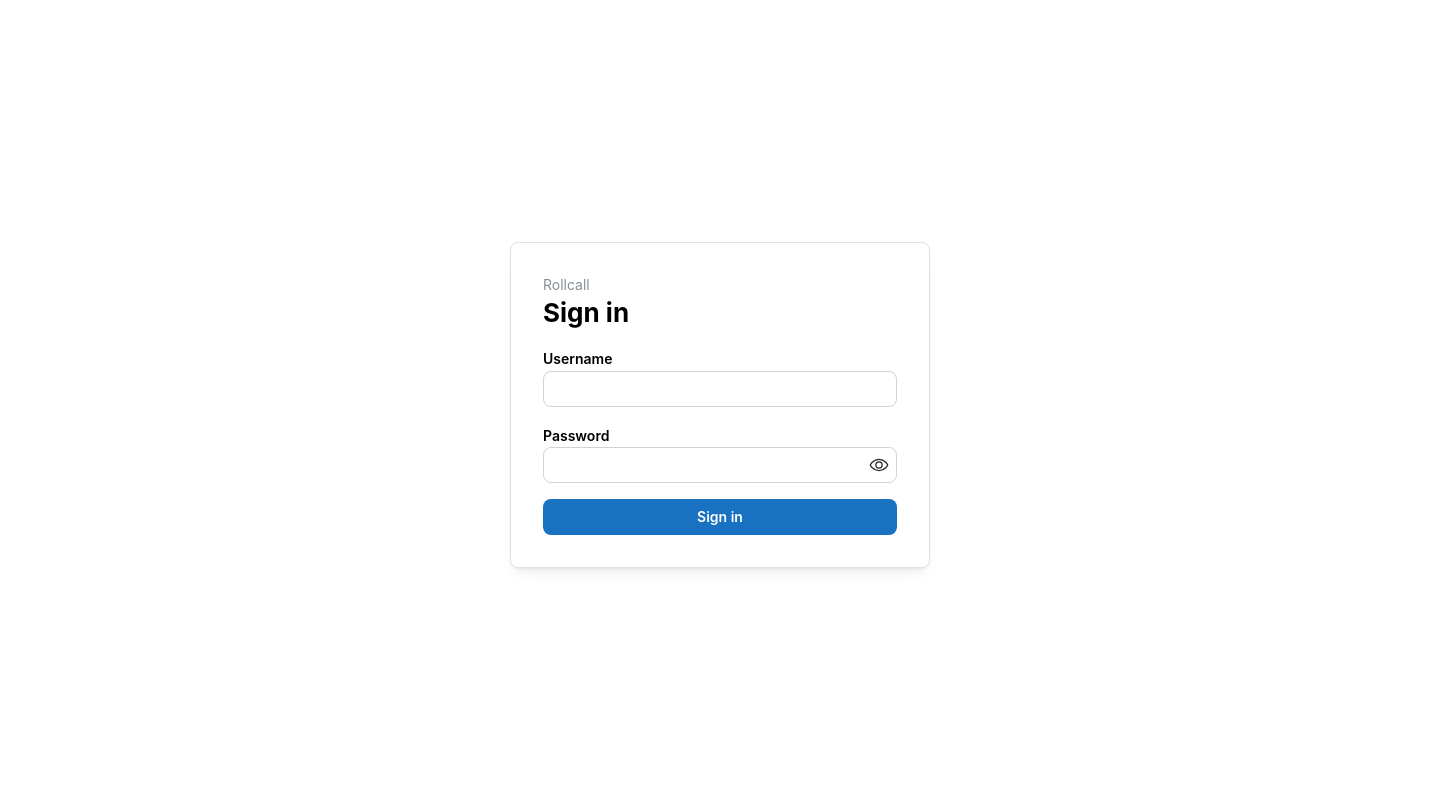
signing in › goes back to the page that sent you here, query and all
The image size is (1440, 810).
Expected: the heading "Sign in" is shown, [543,297,629,328]
In the field labelled "Username": (720, 389) [543,371,897,407], type "admin"
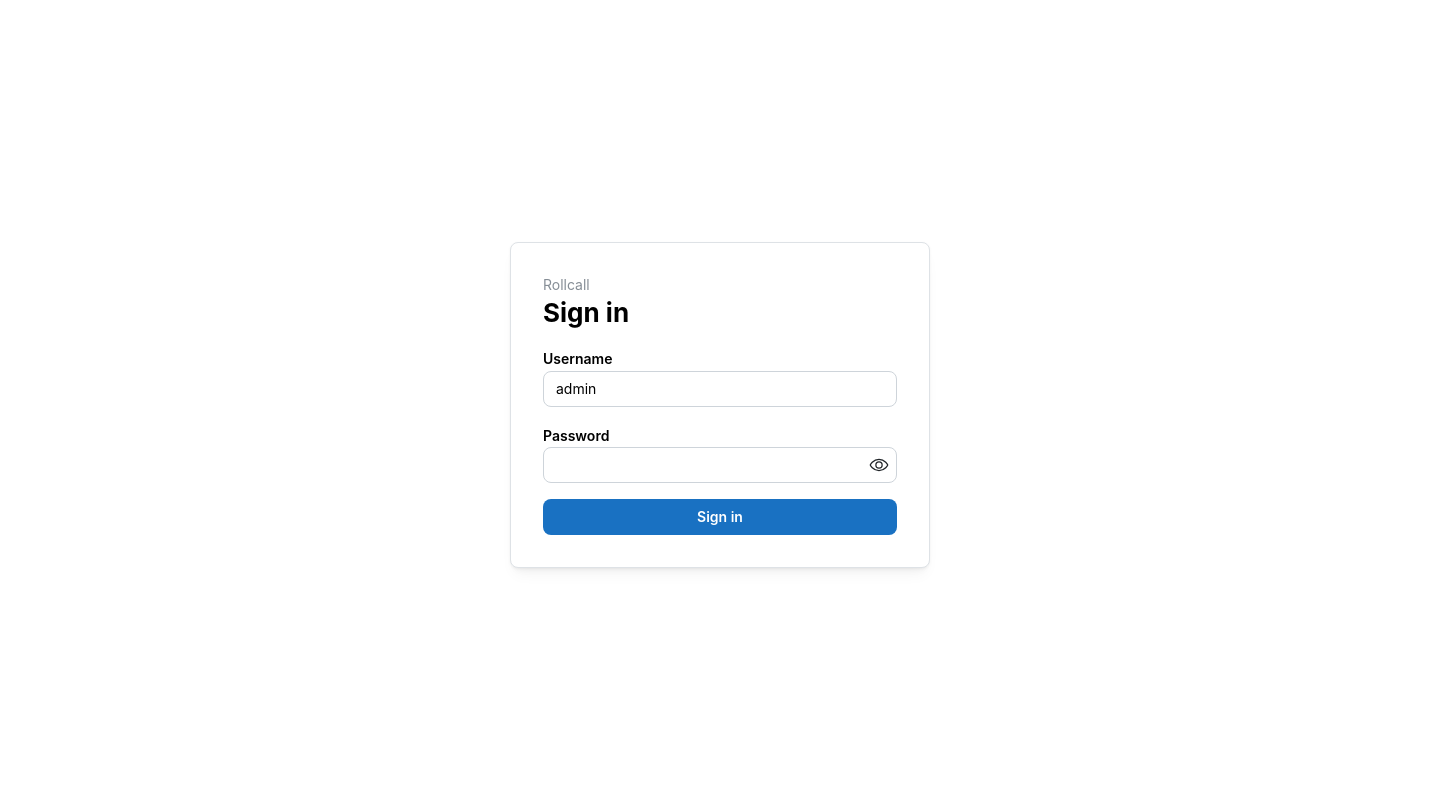
In the password field labelled "Password": (720, 466) [544,448,896,482], type "correct horse battery"
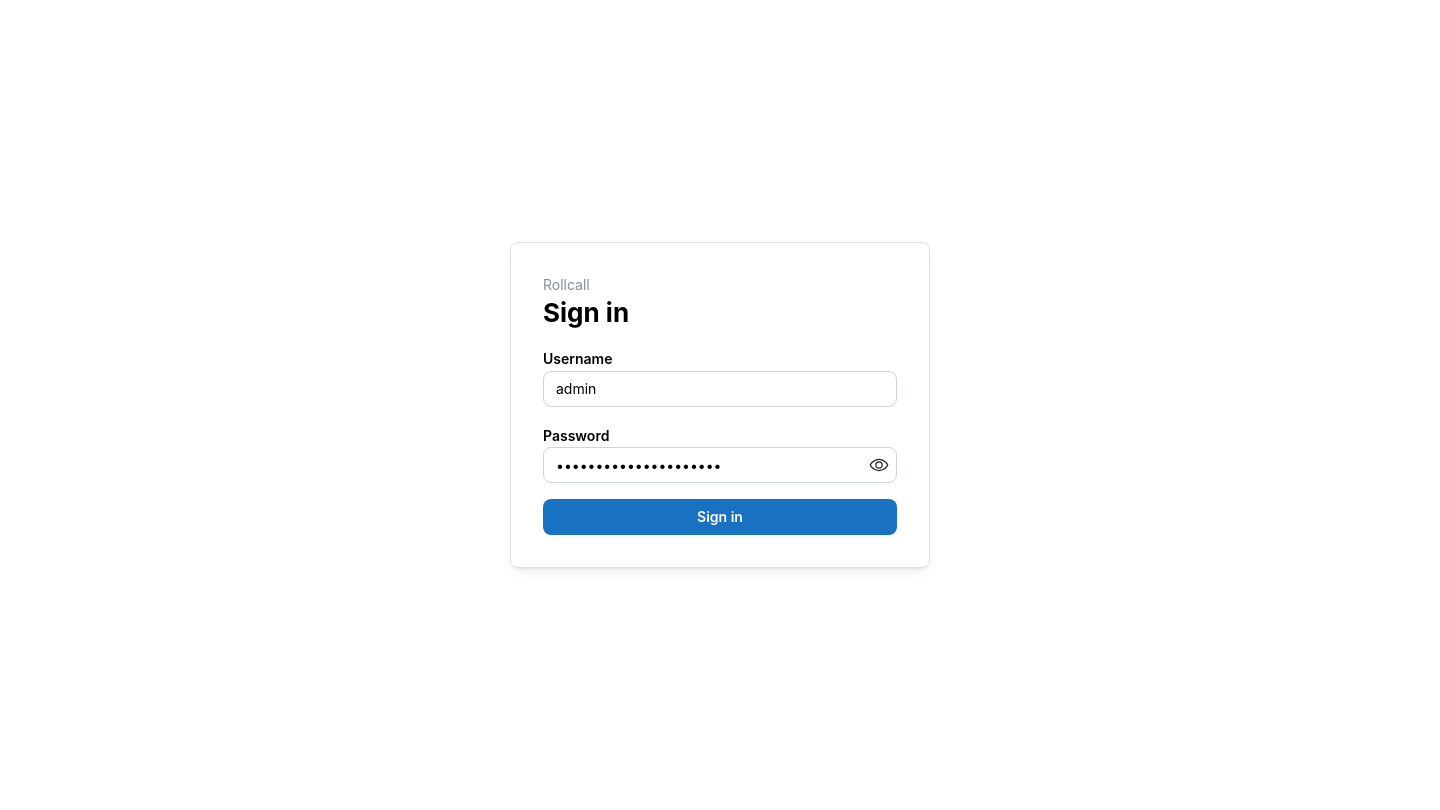
Click the button "Sign in": (720, 518) [543,500,897,536]
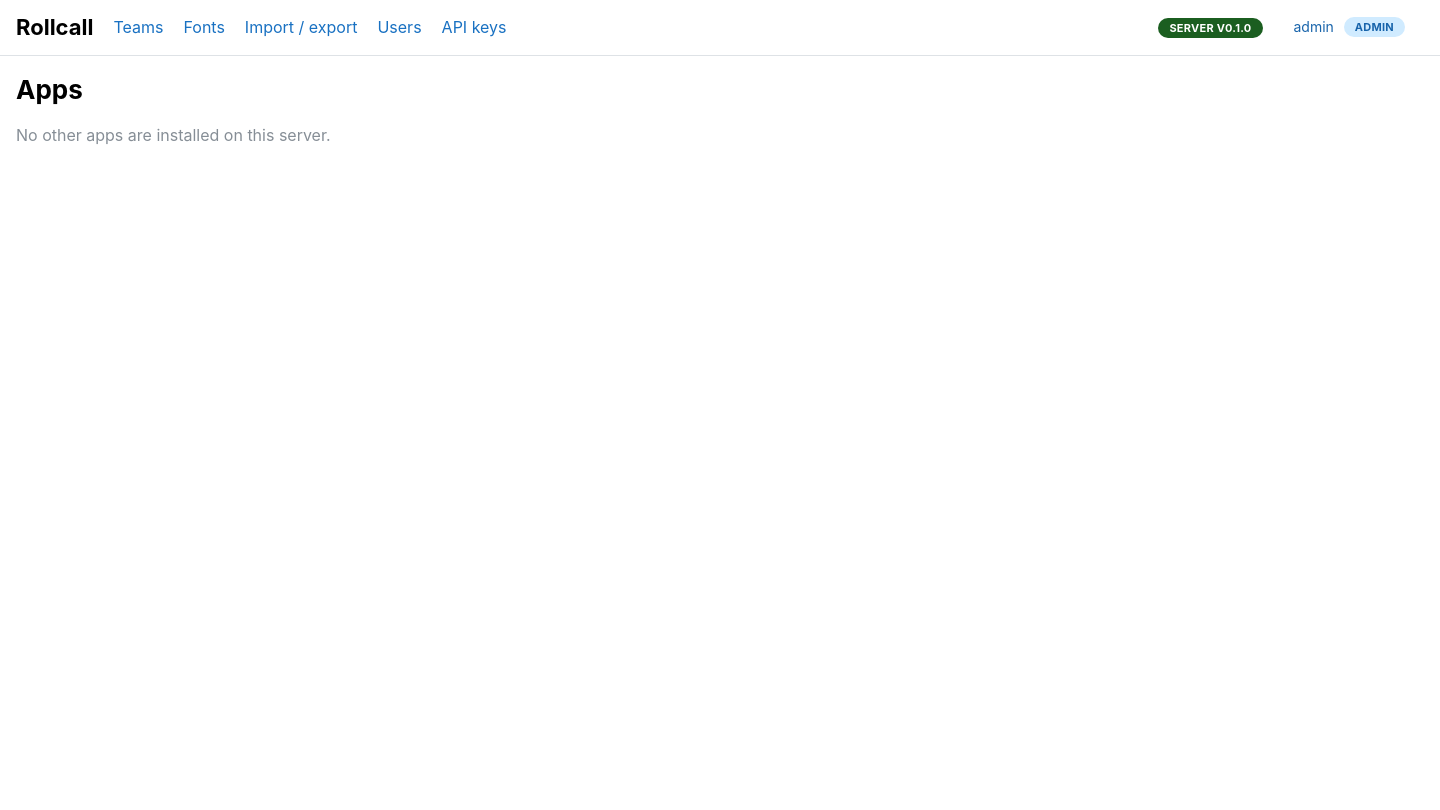
Now the heading "Apps" is shown, box [16,74,83,105]
